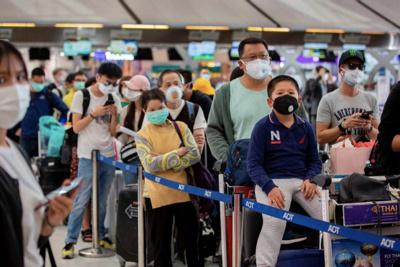OK: (1, 66, 31, 131), (245, 51, 271, 81), (274, 87, 299, 116), (147, 103, 168, 126), (345, 62, 365, 86), (163, 81, 183, 103), (100, 78, 119, 96), (128, 85, 142, 103), (33, 78, 46, 93), (75, 78, 88, 91), (202, 72, 211, 82), (59, 72, 67, 82)
